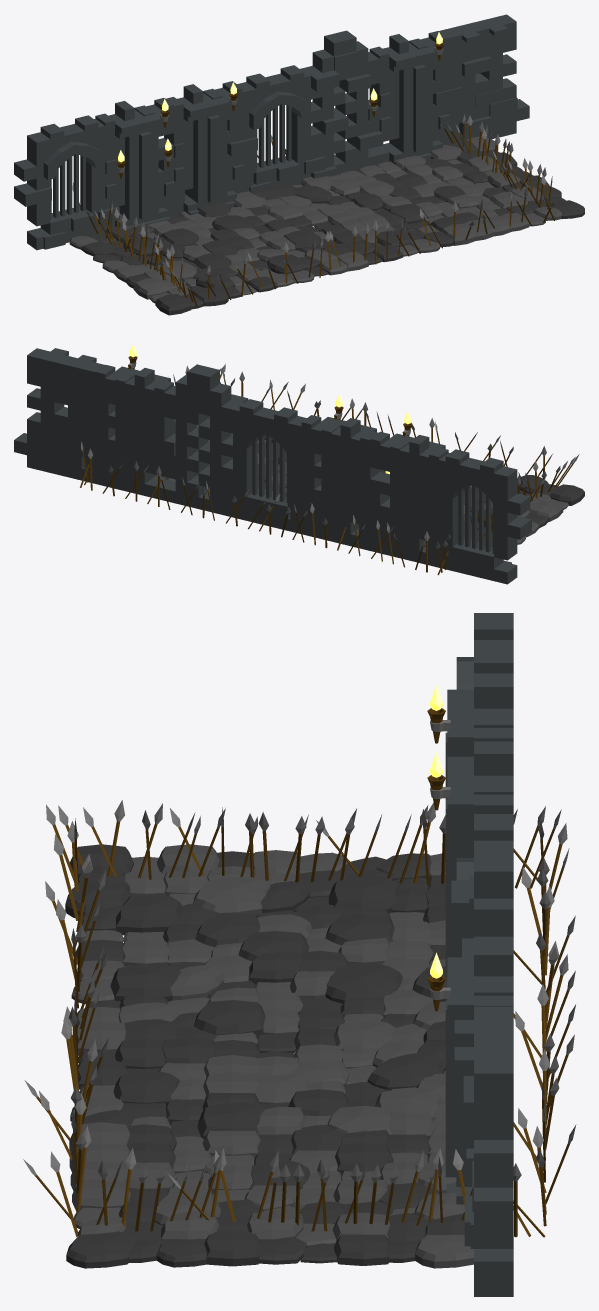
The model's file is level1-5.fbx.
The picture shows the model from 3 angles, top to bottom: view 1: azimuth 30°, elevation 25°; view 2: azimuth 150°, elevation 25°; view 3: azimuth 270°, elevation 25°; orthographic projection. The views are drawn at different scales.
Visible parts, largest first — view 1: Level 1.005; view 2: Level 1.005; view 3: Level 1.005.
Boxes of the visible parts, x1,y1,x2,y2 form: Level 1.005: (14, 14, 584, 315); Level 1.005: (14, 345, 584, 584); Level 1.005: (23, 613, 576, 1296).
Bounding box in the file's own units: 2950 × 752 × 1399.
